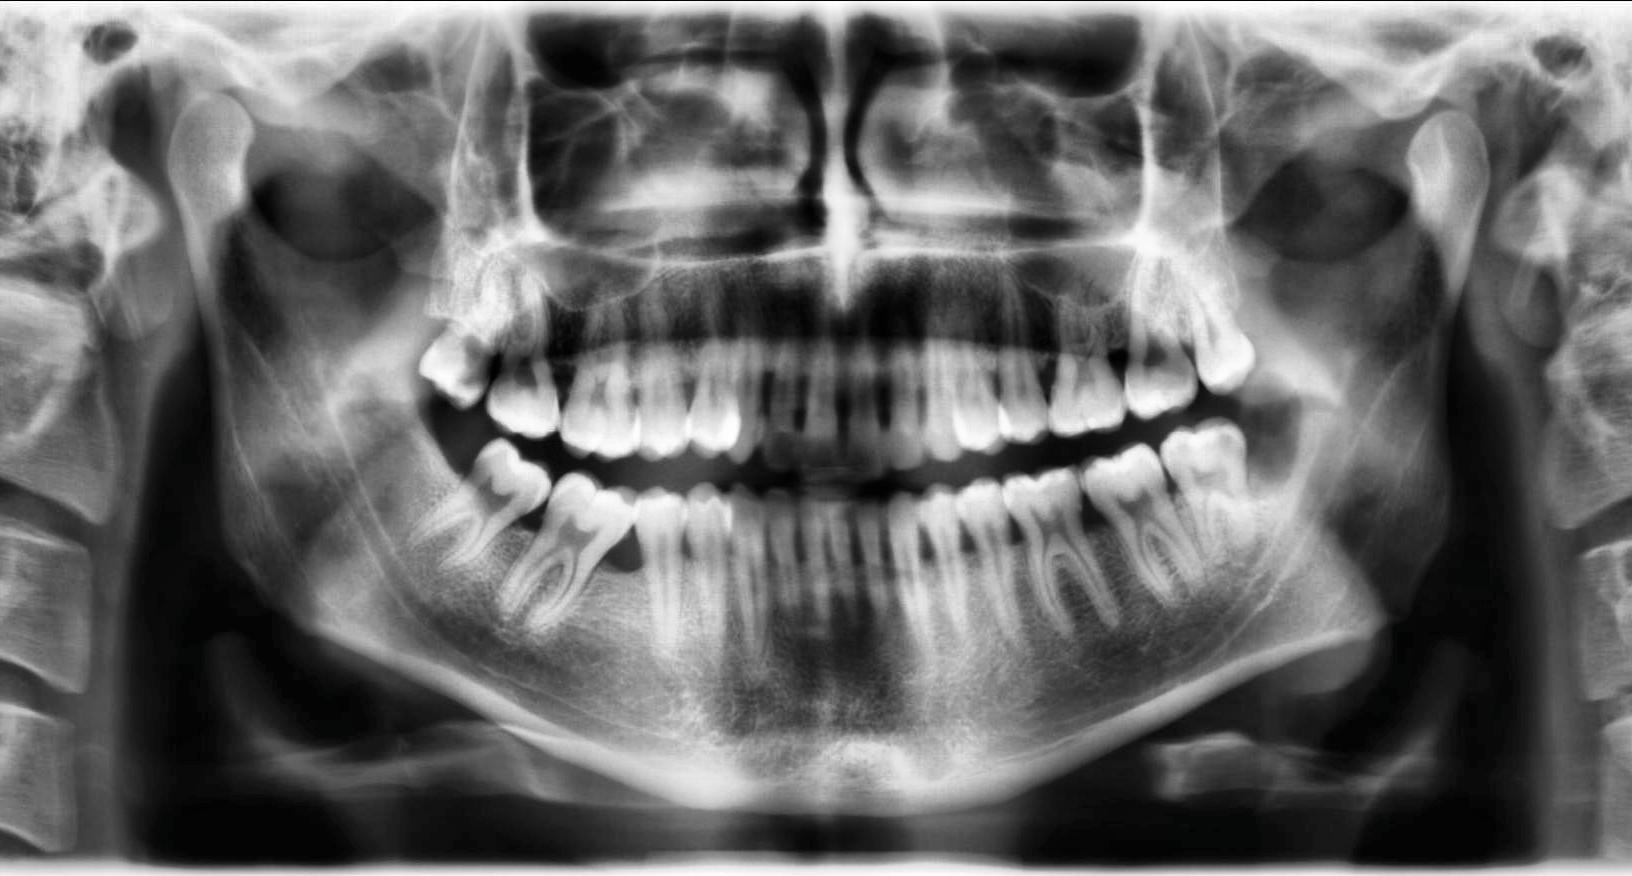enflamatuar: (1234, 366, 1305, 503)
